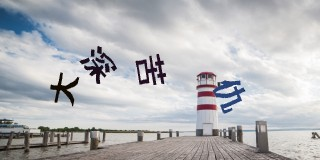仇: (210, 78, 245, 114)
大: (49, 73, 79, 106)
深: (79, 44, 117, 85)
苦: (133, 52, 166, 87)
